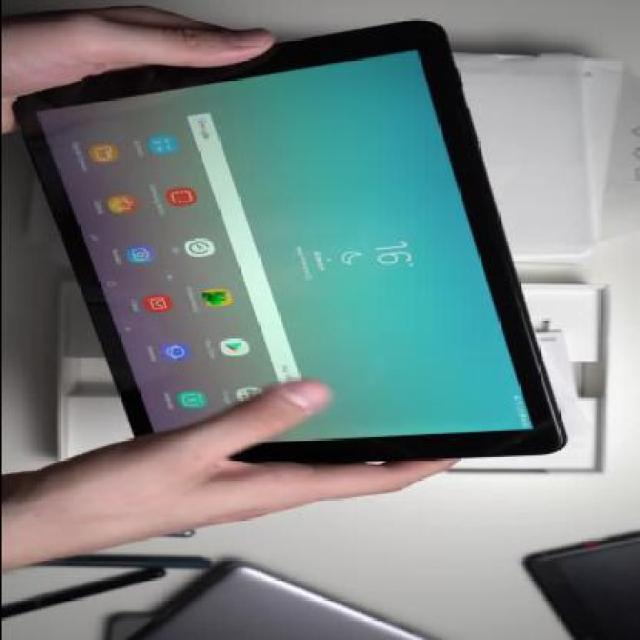tablet: (22, 18, 582, 467)
